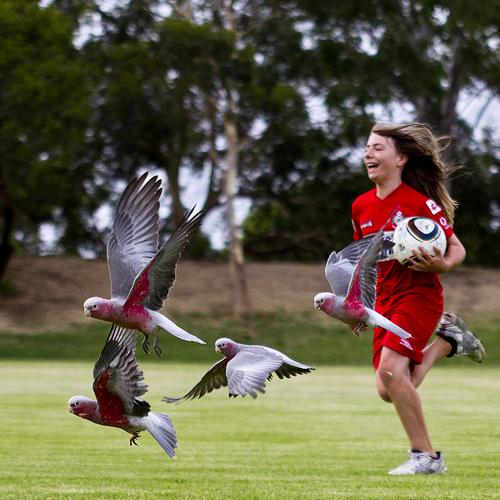person: (354, 115, 486, 476)
